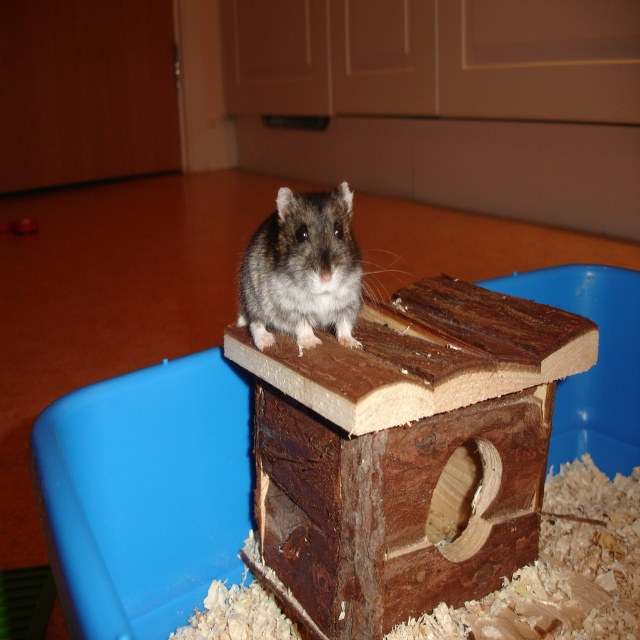Mouse: (242, 181, 375, 337)
